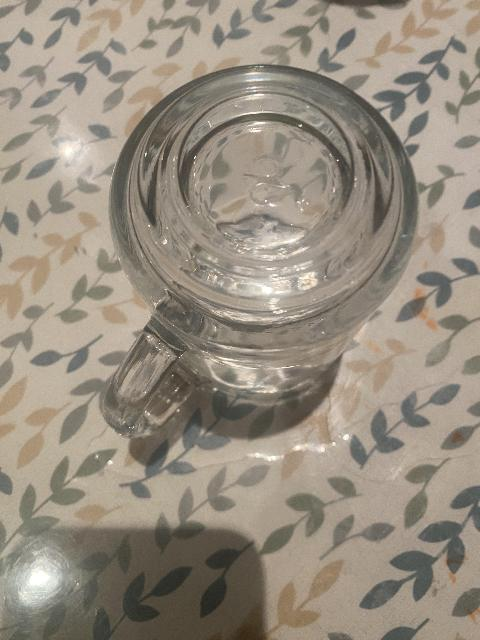Cam: (89, 62, 423, 447)
